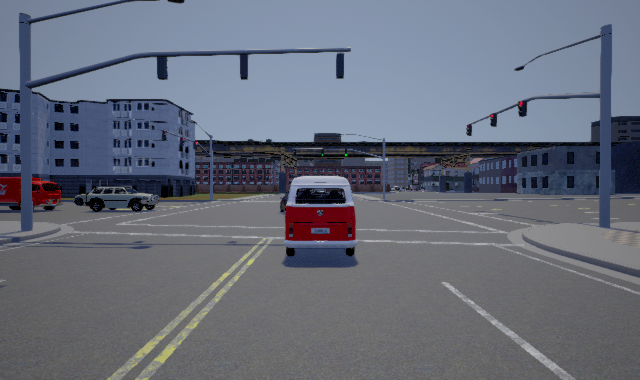traffic_light: (518, 100, 527, 117), (490, 113, 497, 127), (466, 124, 472, 136), (162, 130, 167, 141), (193, 141, 198, 150), (180, 137, 185, 146), (321, 149, 324, 156), (345, 149, 347, 156), (294, 149, 296, 156)
vehicle: (280, 176, 357, 256), (73, 185, 159, 212), (1, 172, 62, 210)
